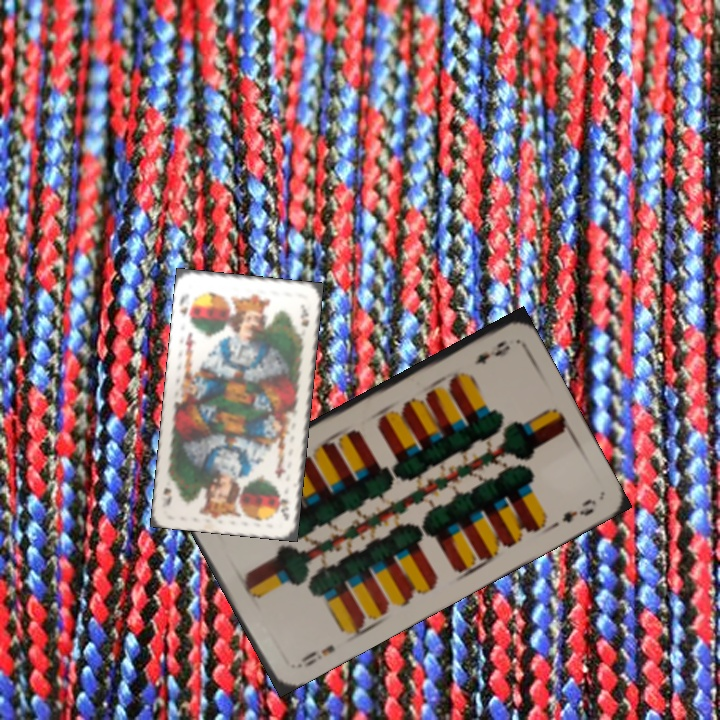E9: (290, 640, 338, 671), (470, 336, 513, 368)
SK: (175, 289, 191, 318), (276, 495, 292, 523)
